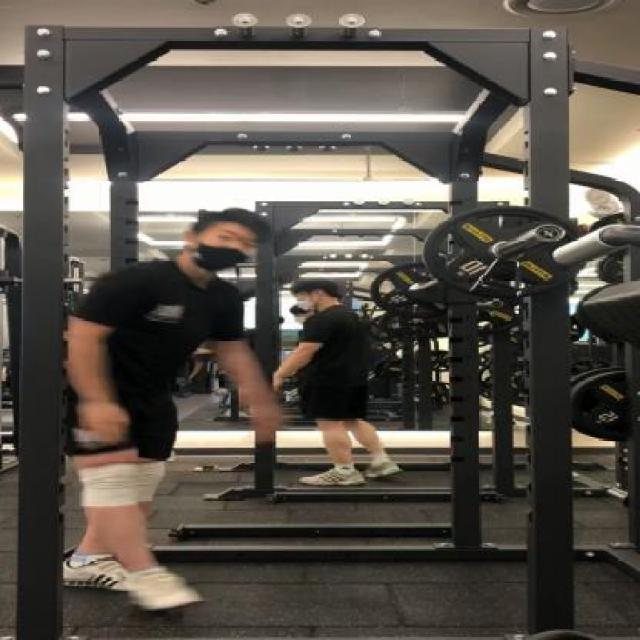Barbell: (532, 221, 566, 244)
